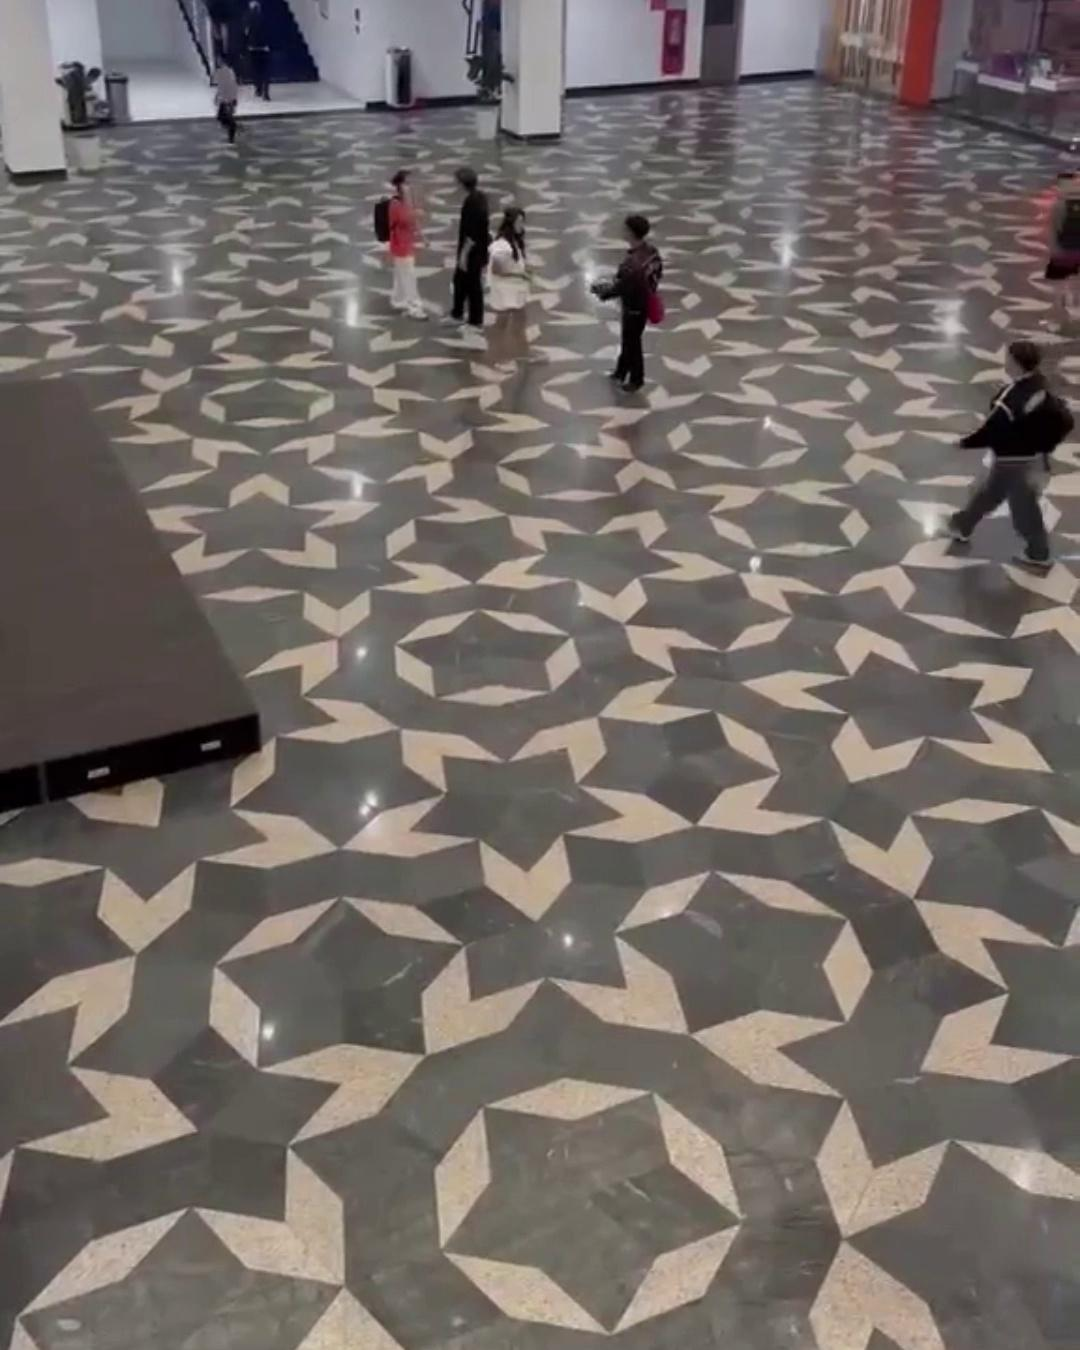your_class: (970, 305, 1062, 555), (590, 191, 694, 401), (473, 193, 554, 415), (370, 153, 444, 344), (443, 143, 498, 333), (220, 0, 304, 114), (1037, 145, 1080, 352), (197, 63, 272, 168)
